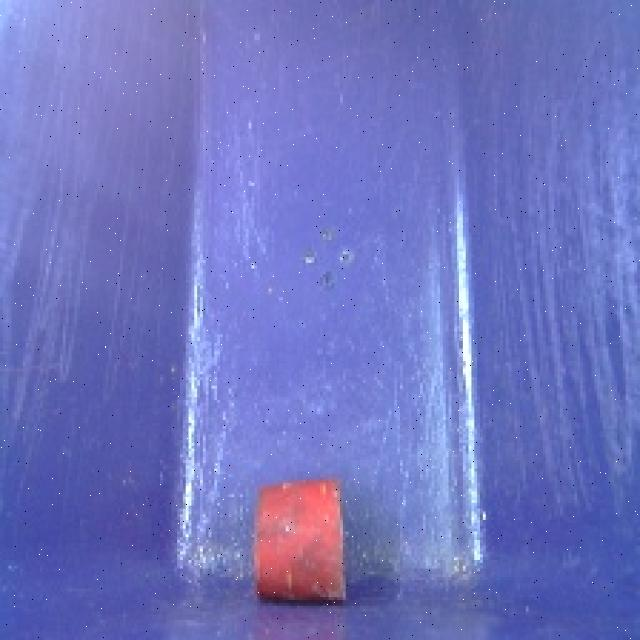carrots: (246, 467, 353, 613)
